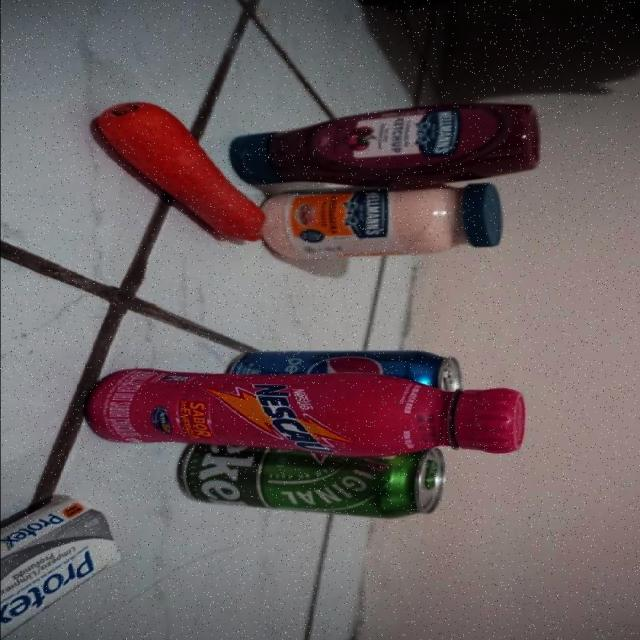BeerCan: (183, 454, 444, 515)
Carrot: (96, 105, 262, 240)
ChocolateMilk: (88, 377, 523, 453)
Ketchup: (234, 104, 536, 188)
Mayonnaise: (258, 182, 506, 258)
Soap: (0, 496, 117, 640)
SodaCan: (235, 350, 462, 381)
